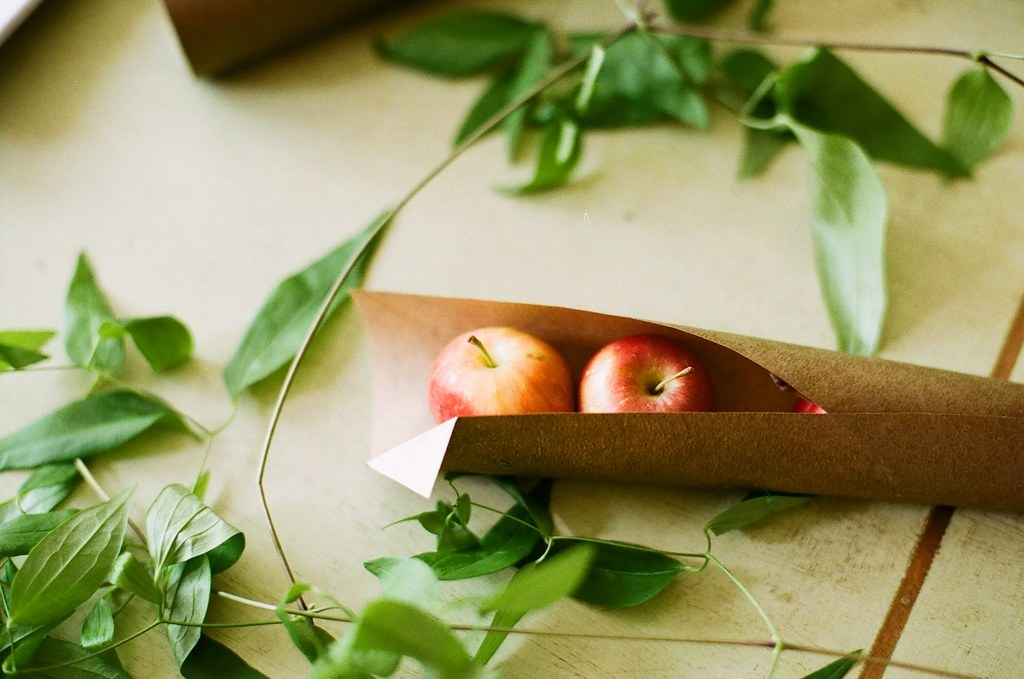apple: (424, 322, 574, 463), (581, 334, 721, 460)
